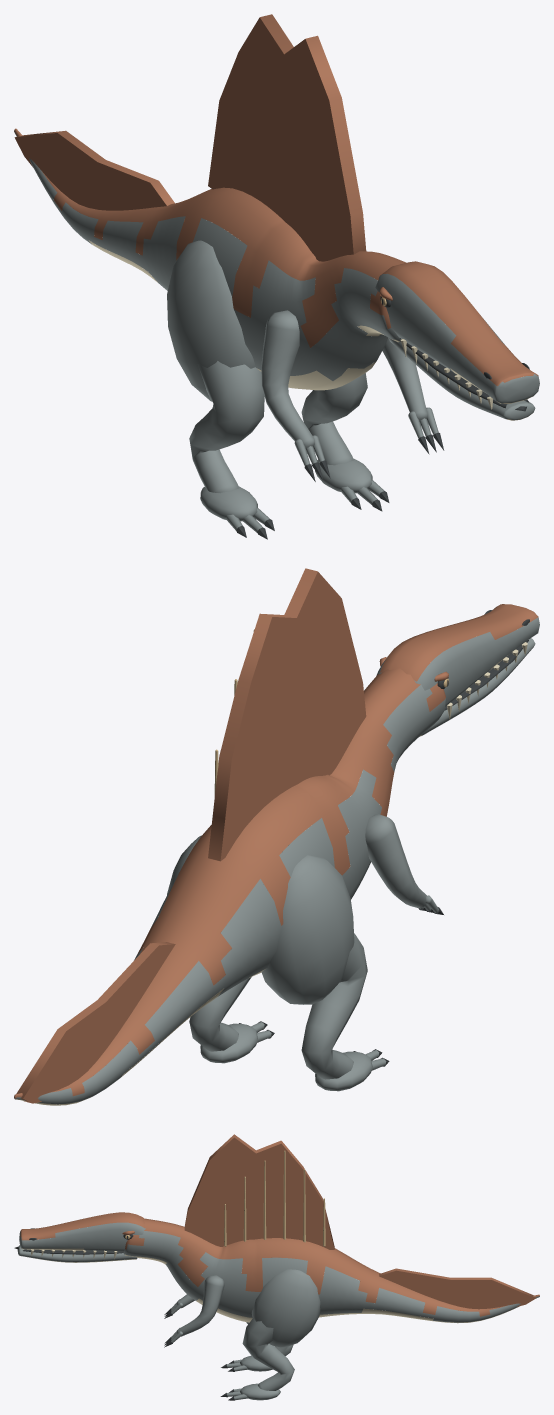
The model's file is primeval-frontier-spinosaurus-0f1b4edb__1690.glb.
The picture shows the model from 3 angles, top to bottom: view 1: azimuth 30°, elevation 25°; view 2: azimuth 150°, elevation 25°; view 3: azimuth 270°, elevation 25°; orthographic projection. The views are drawn at different scales.
Visible parts, largest first — view 1: spinosaurus; view 2: spinosaurus; view 3: spinosaurus.
Part boxes in pixels (<box>): spinosaurus: <box>14,14,539,539</box>; spinosaurus: <box>14,568,539,1105</box>; spinosaurus: <box>14,1134,539,1400</box>.
Size of the model in its own units: 2.03 by 5.69 by 10.94.
